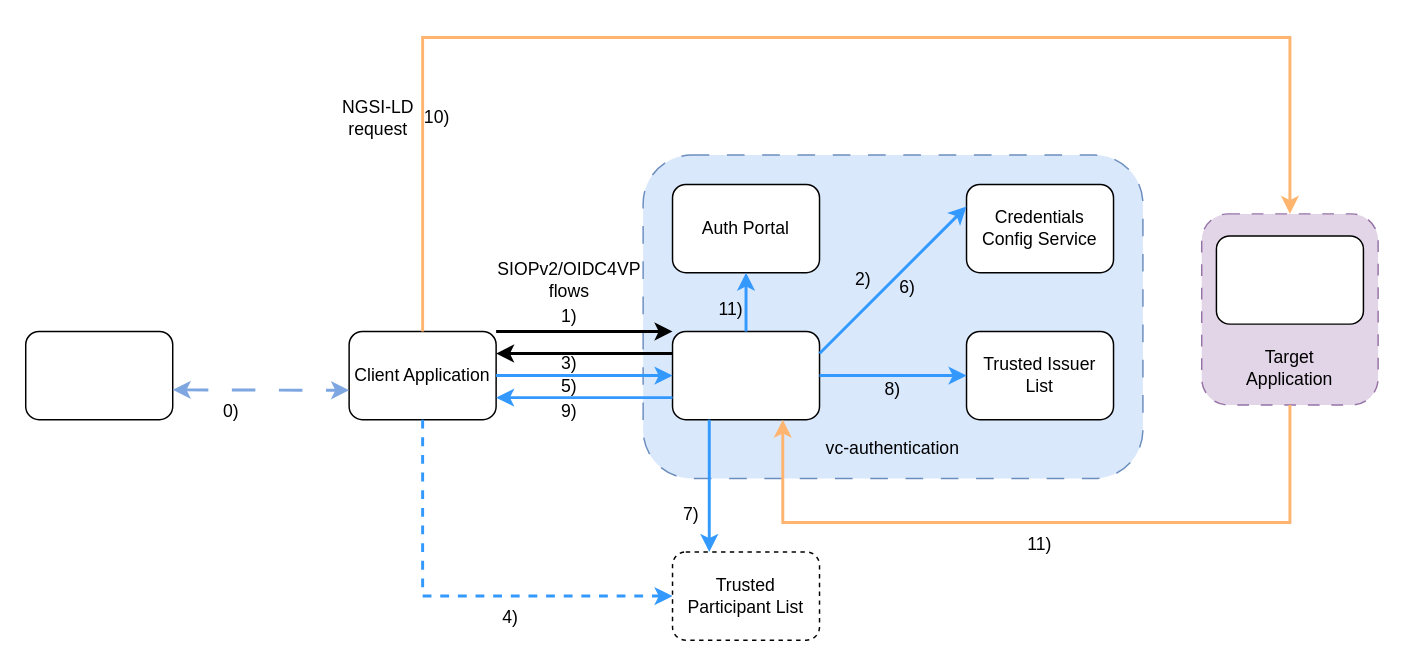
The diagram is 1404 pixels wide and 666 high, and some of its shapes have lost their labels. Here are the shapes that lost their labels. From the top down, the centre of each, then its label:
(1289,279): Context Broker
(98,375): Issuer
(745,375): Verifier
